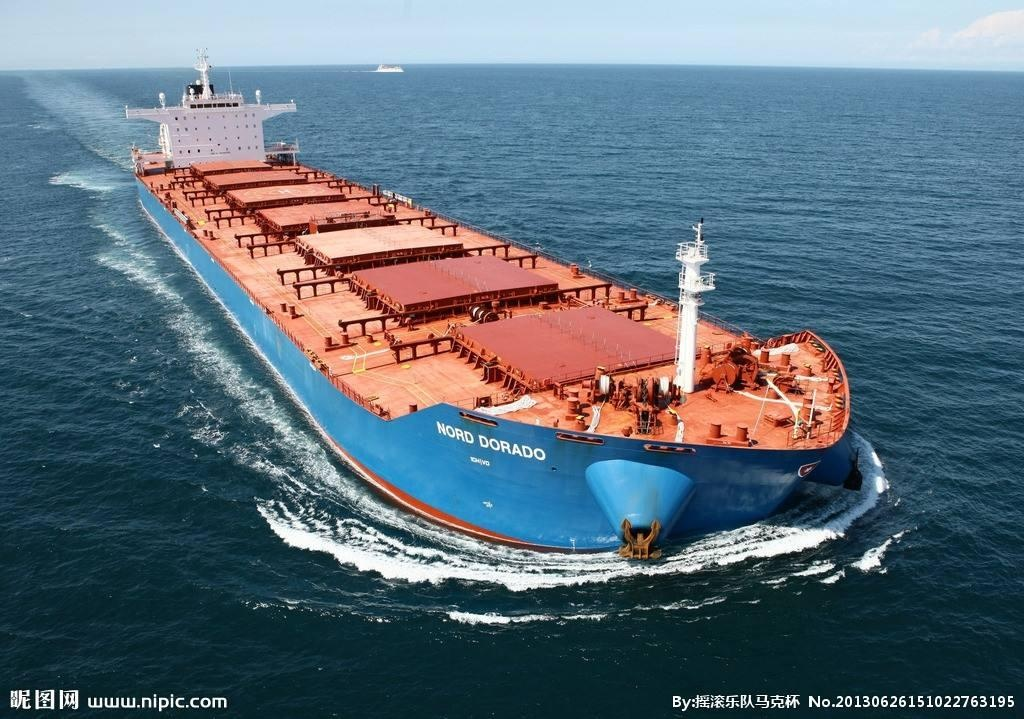Cargoship: (127, 56, 870, 566)
